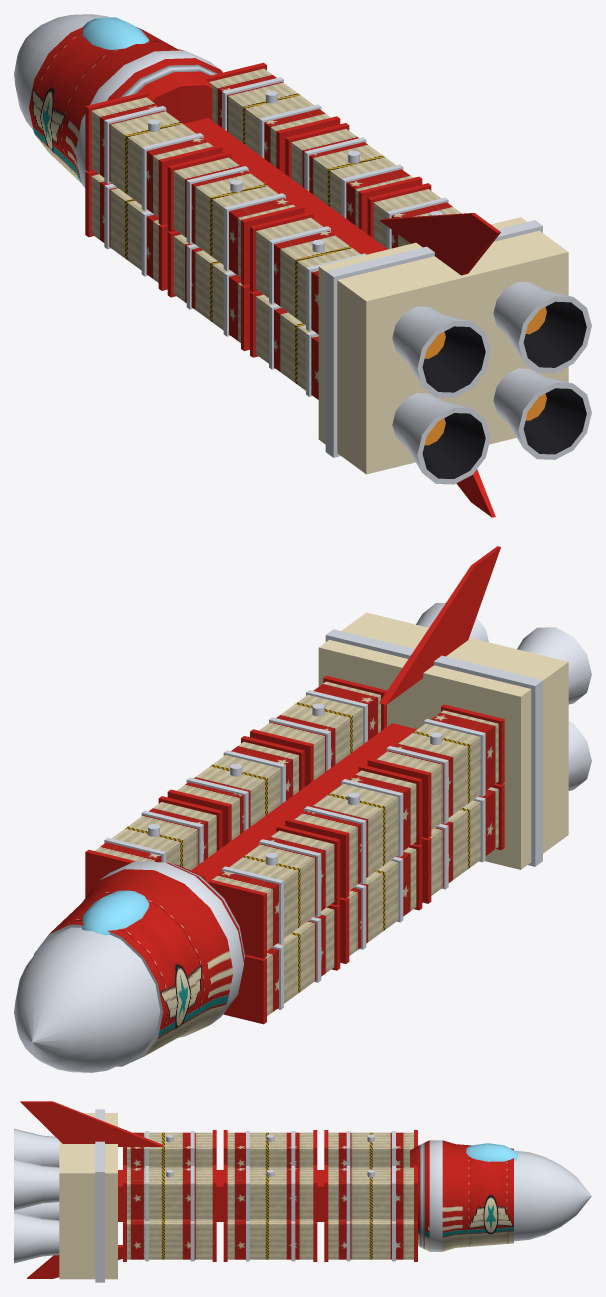
Rendered from supply_ship.obj.
3 views of the same model, one above another, from view 1: azimuth 30°, elevation 25°; view 2: azimuth 150°, elevation 25°; view 3: azimuth 270°, elevation 25° (orthographic). The views are drawn at different scales.
Parts seen in each view (by area): view 1: container, engine_block, bell, cab, end_frame, rib, spine, engine_trim, fin_top, canopy, latch, fin_bottom; view 2: container, cab, engine_block, end_frame, rib, spine, fin_top, engine_trim, bell, canopy, latch; view 3: container, cab, engine_block, bell, end_frame, rib, fin_top, engine_trim, spine, canopy, fin_bottom, latch.
Part boxes in pixels (x1,y1,x2,y2): container: (91, 68, 461, 399); engine_block: (318, 217, 568, 474); bell: (392, 282, 591, 484); cab: (14, 14, 222, 188); end_frame: (85, 62, 431, 357); rib: (104, 77, 448, 396); spine: (183, 118, 387, 254); engine_trim: (325, 220, 542, 457); fin_top: (379, 213, 500, 275); canopy: (82, 17, 149, 49); latch: (148, 90, 442, 252); fin_bottom: (456, 469, 495, 517); container: (95, 681, 498, 1015); cab: (14, 861, 245, 1072); engine_block: (318, 612, 568, 869); end_frame: (85, 675, 504, 1024); rib: (104, 690, 485, 1009); spine: (191, 723, 416, 879); fin_top: (379, 546, 500, 704); engine_trim: (325, 629, 542, 866); bell: (416, 602, 591, 790); canopy: (82, 890, 149, 935); latch: (148, 703, 442, 865); container: (127, 1132, 413, 1259); cab: (410, 1140, 591, 1251); engine_block: (59, 1113, 117, 1279); bell: (14, 1128, 59, 1263); end_frame: (123, 1130, 417, 1261); rib: (145, 1131, 395, 1261); fin_top: (20, 1101, 163, 1146); engine_trim: (95, 1109, 104, 1282); spine: (118, 1170, 324, 1221); canopy: (466, 1143, 517, 1161); fin_bottom: (27, 1245, 122, 1278); latch: (166, 1134, 374, 1177).
Size of the model in its own units: 22.8 by 30 by 89.
Materials: 8 (2 with a texture image).
